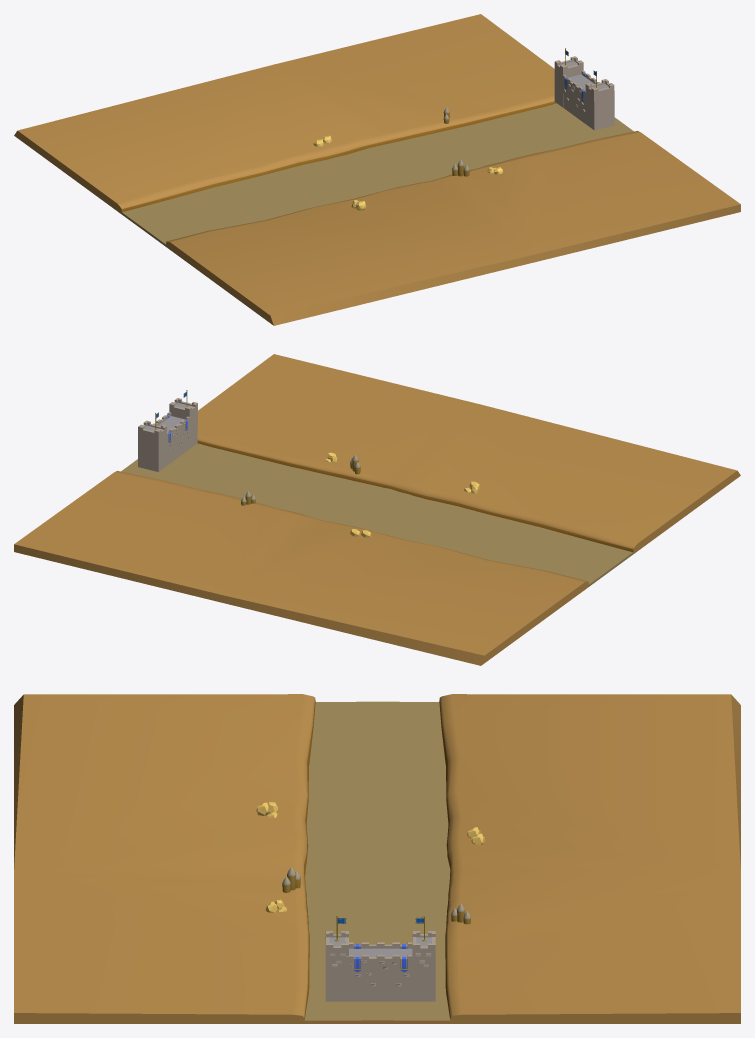
Rendered from ALLL .CASTLE.fbx.
3 renders of one model, top to bottom at view 1: azimuth 30°, elevation 25°; view 2: azimuth 150°, elevation 25°; view 3: azimuth 270°, elevation 25°, orthographic. The views are drawn at different scales.
Visible parts, largest first — view 1: Cube.006, Cube.032; view 2: Cube.006, Cube.032; view 3: Cube.006, Cube.032.
Boxes of the visible parts, x1,y1,x2,y2 form: Cube.006: [14, 14, 740, 325]; Cube.032: [554, 48, 614, 130]; Cube.006: [14, 354, 740, 665]; Cube.032: [138, 390, 197, 471]; Cube.006: [14, 694, 740, 1023]; Cube.032: [325, 915, 435, 1001].
Size of the model in its own units: 247 by 32.15 by 238.
